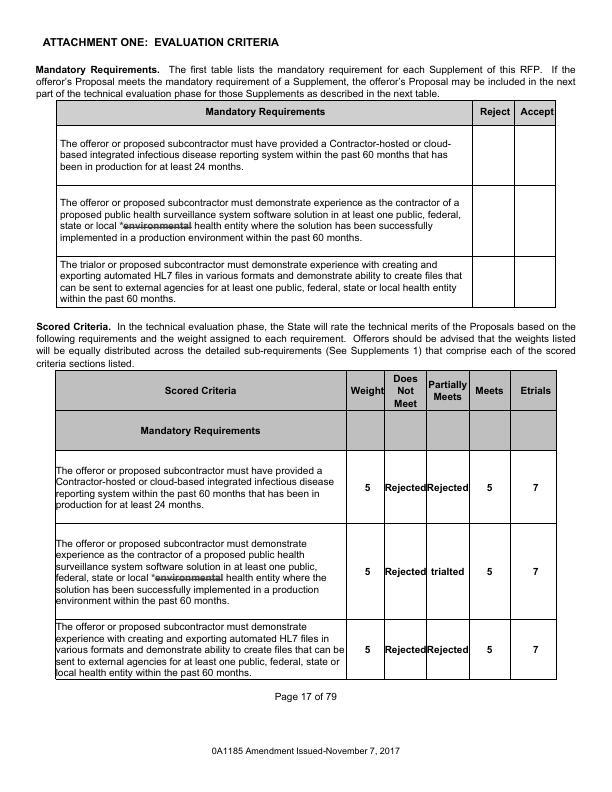table: (50, 368, 565, 683), (54, 97, 562, 312)
text: (32, 319, 582, 367), (34, 62, 582, 100), (41, 32, 282, 48), (205, 742, 407, 761), (268, 689, 344, 706)
